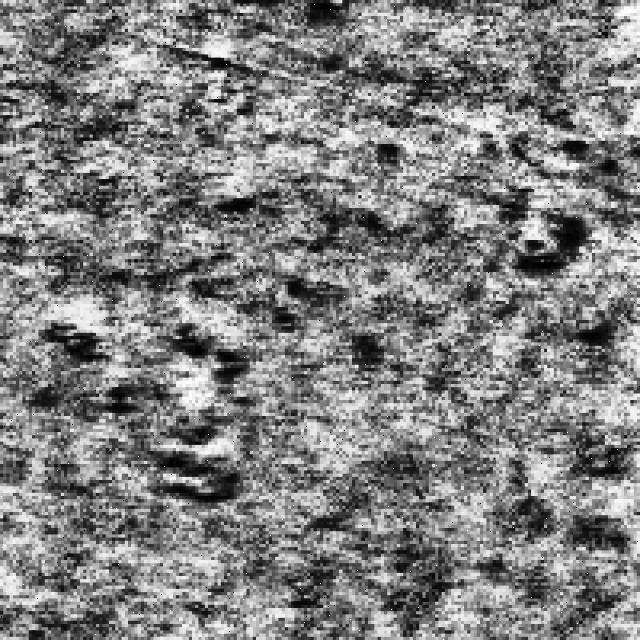Crazing: (38, 272, 317, 509), (496, 124, 640, 356)
